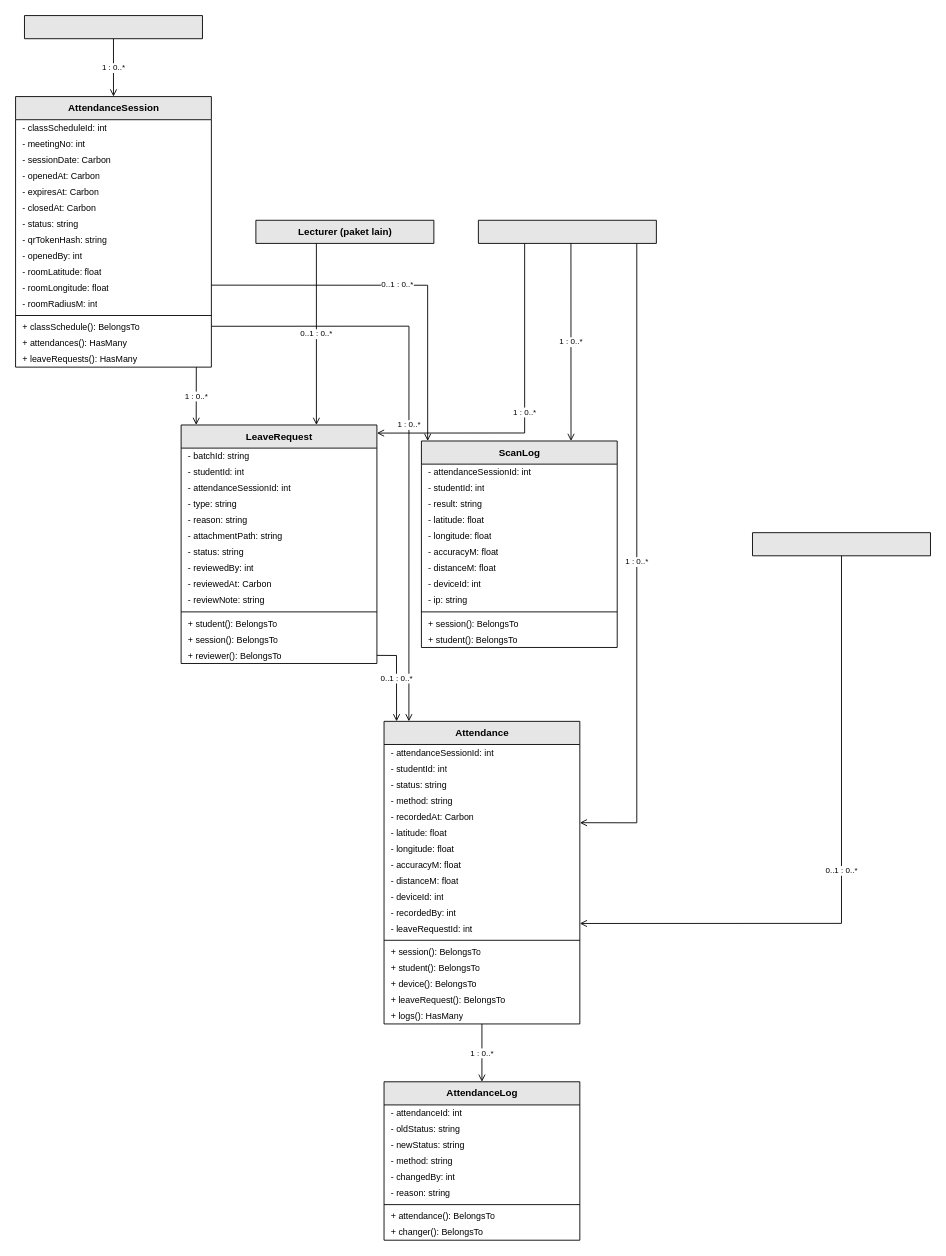
The diagram is 946 pixels wide and 1256 high, and some of its shapes have lost their labels. Here are the shapes that lost their labels. From the top down, the centre of each, then its label:
point 113,27: ClassSchedule (paket lain)
point 566,231: Student (paket lain)
point 841,544: Device (paket lain)
